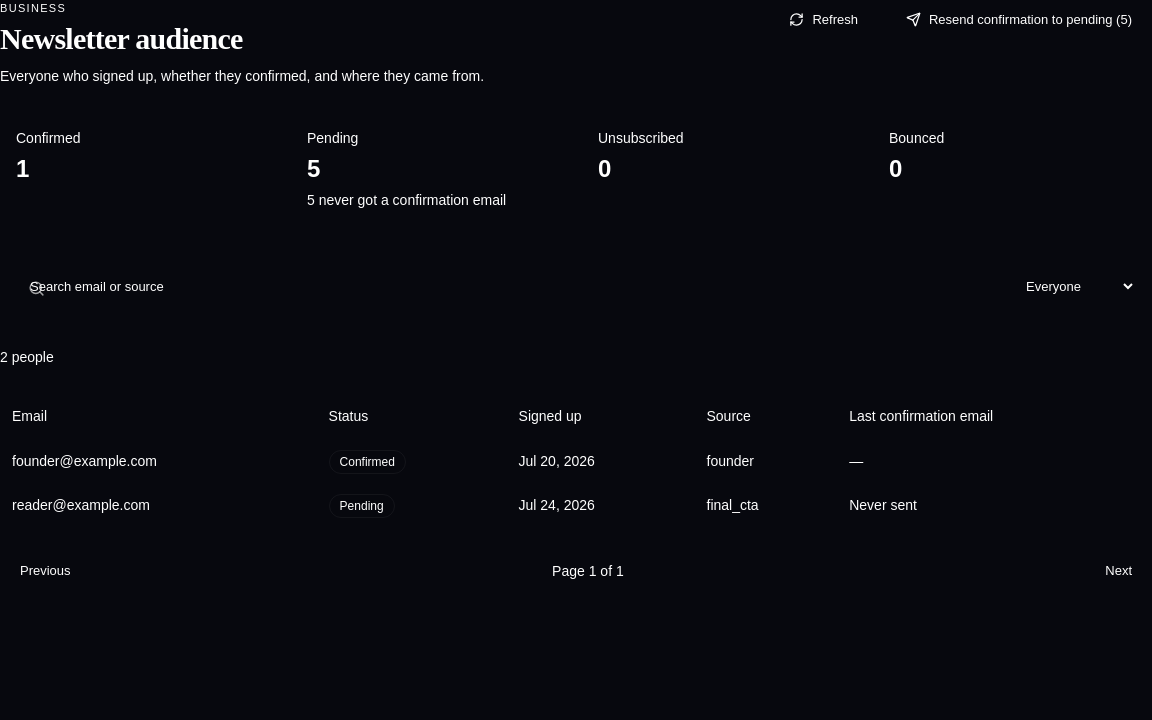
Test: AudienceManager › shows the result of a successful resend
Click the button "Resend confirmation to pending (5)".
click(1019, 20)  # box [886, 0, 1151, 40]
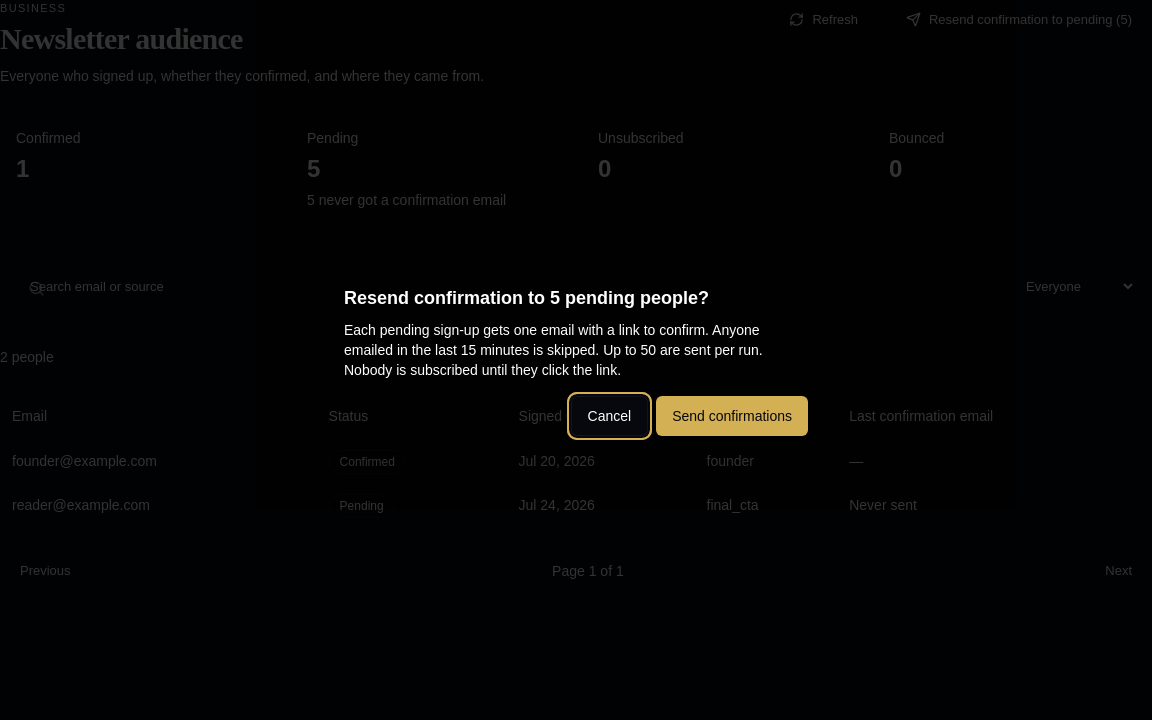
Click the button "Send confirmations".
click(732, 416)  # box [656, 396, 808, 436]
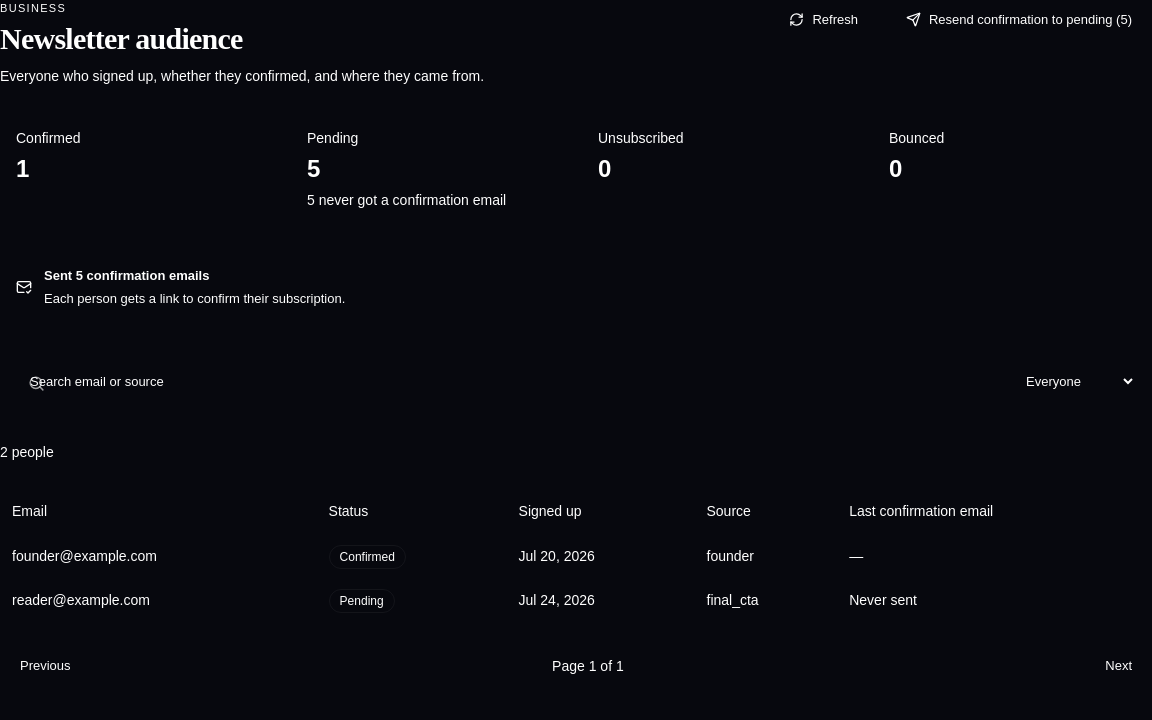
Expected: the text "Sent 5 confirmation emails" is shown, [44, 268, 209, 283]
